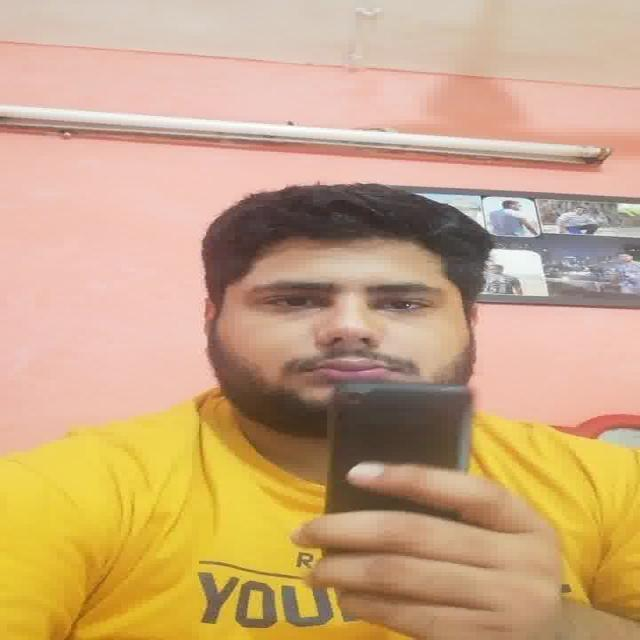Phone: (324, 384, 476, 517)
